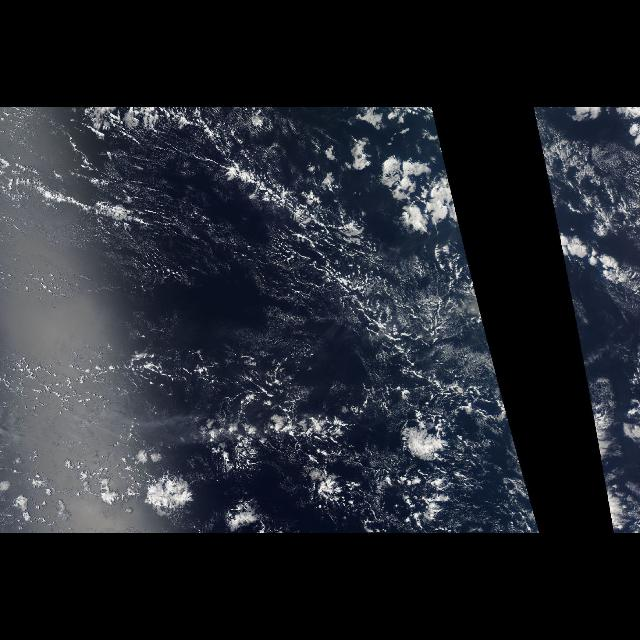Flower: (122, 413, 288, 533)
Gravel: (226, 155, 528, 489), (542, 156, 552, 202)
Sugar: (3, 107, 493, 379)
